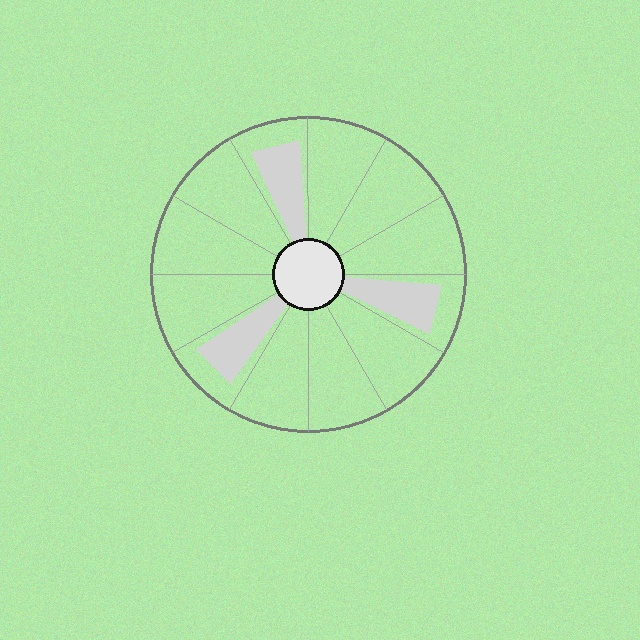fan: (146, 112, 470, 436)
